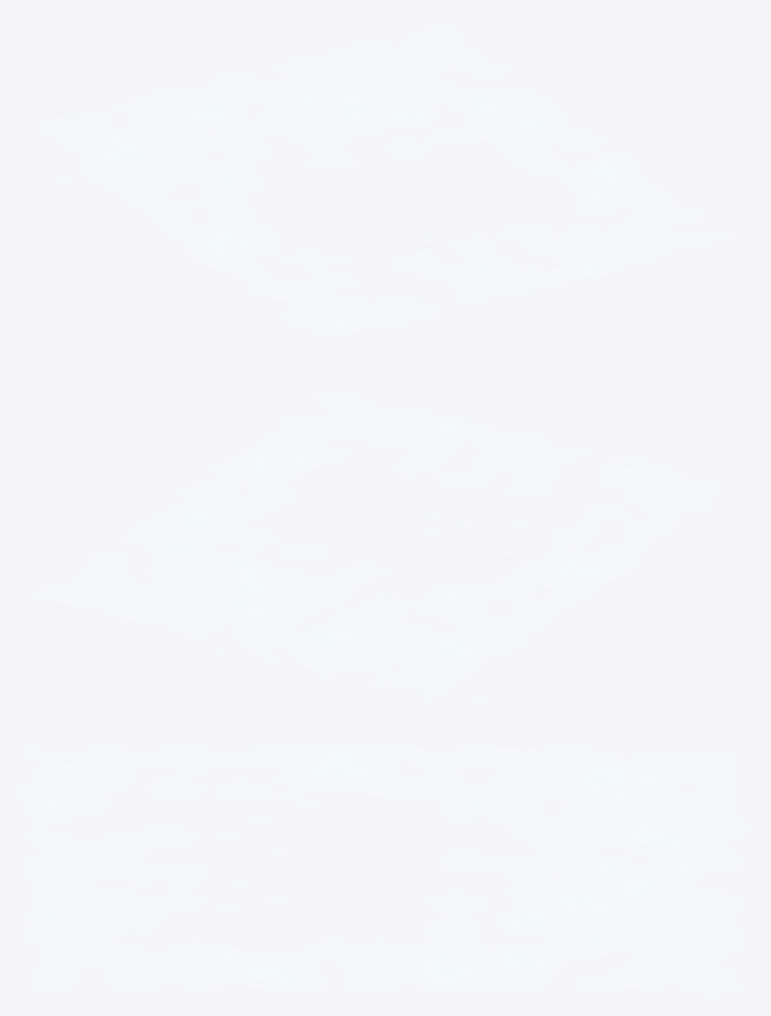
The model's file is fog_ground_v10.glb.
The picture shows the model from 3 angles, top to bottom: view 1: azimuth 30°, elevation 25°; view 2: azimuth 150°, elevation 25°; view 3: azimuth 270°, elevation 25°; orthographic projection. The views are drawn at different scales.
Parts seen in each view (by area): view 1: fog_ground; view 2: fog_ground; view 3: fog_ground.
Part boxes in pixels (bbox=[...]): fog_ground: bbox=[40, 26, 723, 337]; fog_ground: bbox=[47, 394, 717, 702]; fog_ground: bbox=[22, 744, 743, 992].
Bounding box in the file's own units: 102 × 18.2 × 122.
Materials: 4 (4 with a texture image).
